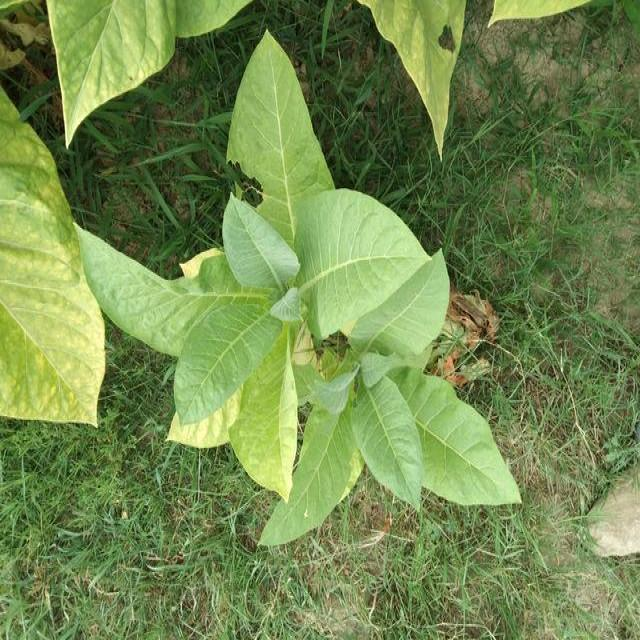crop: (152, 22, 533, 538)
